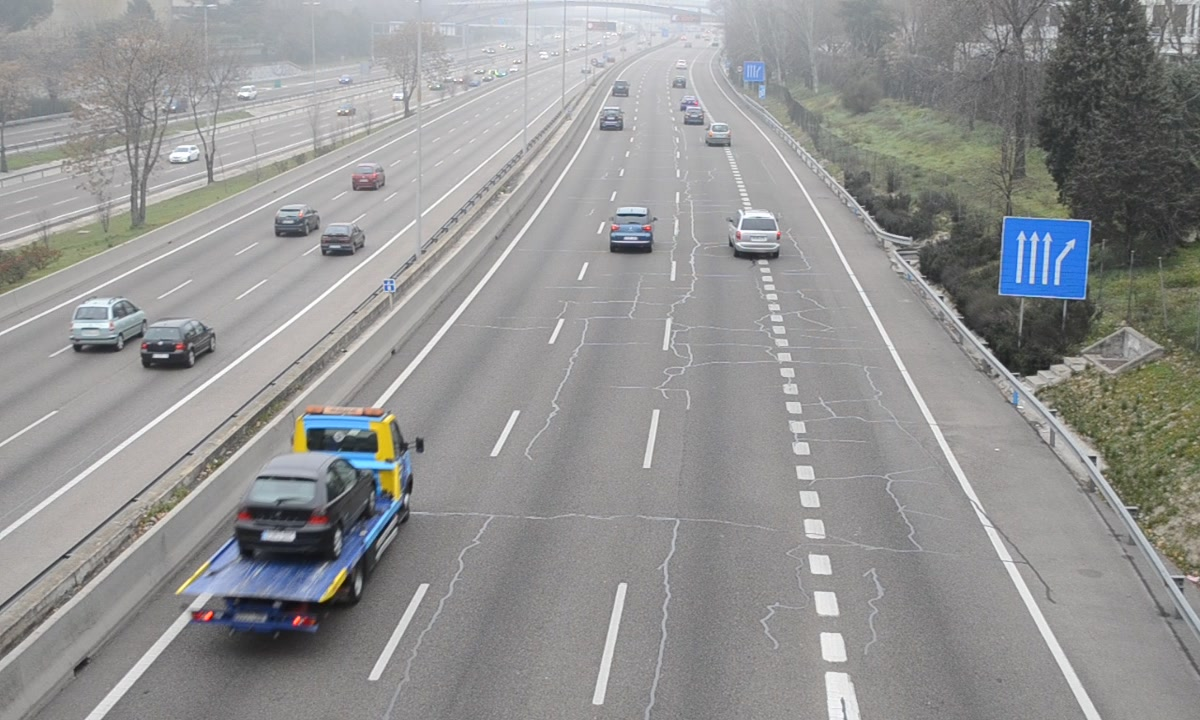car: (729, 208, 782, 256), (610, 206, 653, 249), (704, 121, 732, 147), (600, 105, 625, 130)
small-truck: (175, 406, 414, 629)
